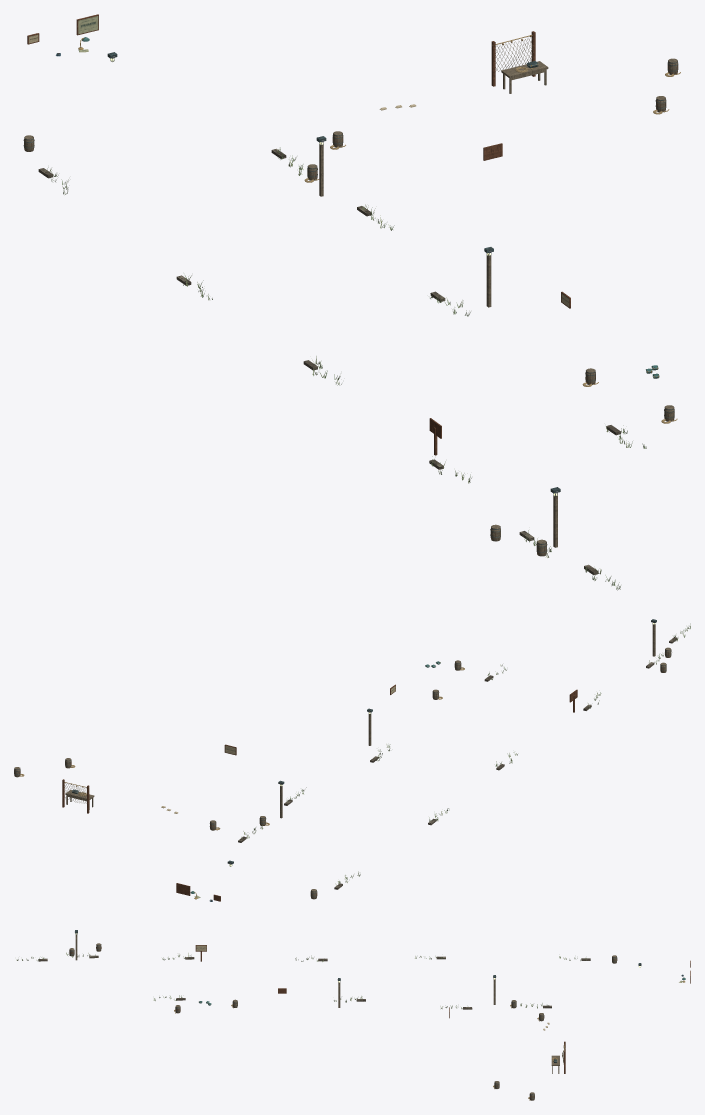
The model's file is chapter1.glb.
3 views of the same model, one above another, from view 1: azimuth 30°, elevation 25°; view 2: azimuth 150°, elevation 25°; view 3: azimuth 270°, elevation 25° (orthographic). The views are drawn at different scales.
Parts seen in each view (by area): view 1: Hafendorf und Straße, Laden und Lotsenbüro; view 2: Hafendorf und Straße, Laden und Lotsenbüro; view 3: Hafendorf und Straße.
Boxes of the visible parts, x1,y1,x2,y2 form: Hafendorf und Straße: (23, 31, 680, 590); Laden und Lotsenbüro: (27, 14, 659, 378); Hafendorf und Straße: (14, 619, 690, 899); Laden und Lotsenbüro: (161, 661, 440, 901); Hafendorf und Straße: (16, 930, 617, 1100).
Bounding box in the file's own units: 29.01 × 2.62 × 54.73.
21 materials, 9 textured.
